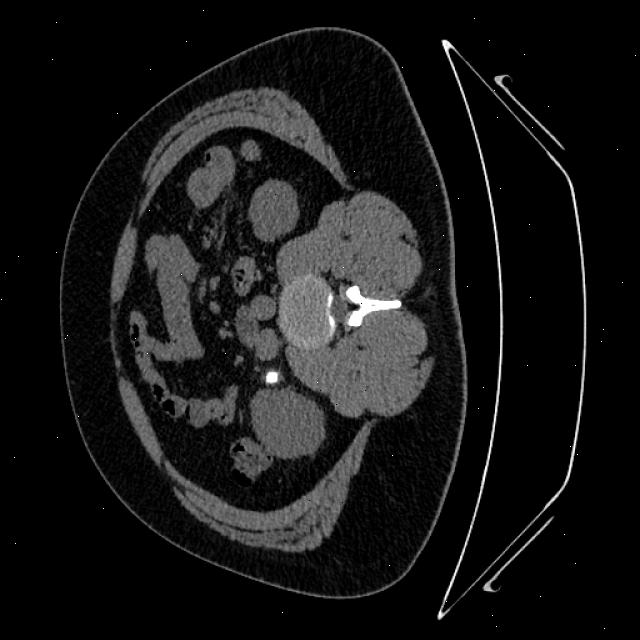kidneystone: (265, 370, 279, 382)
